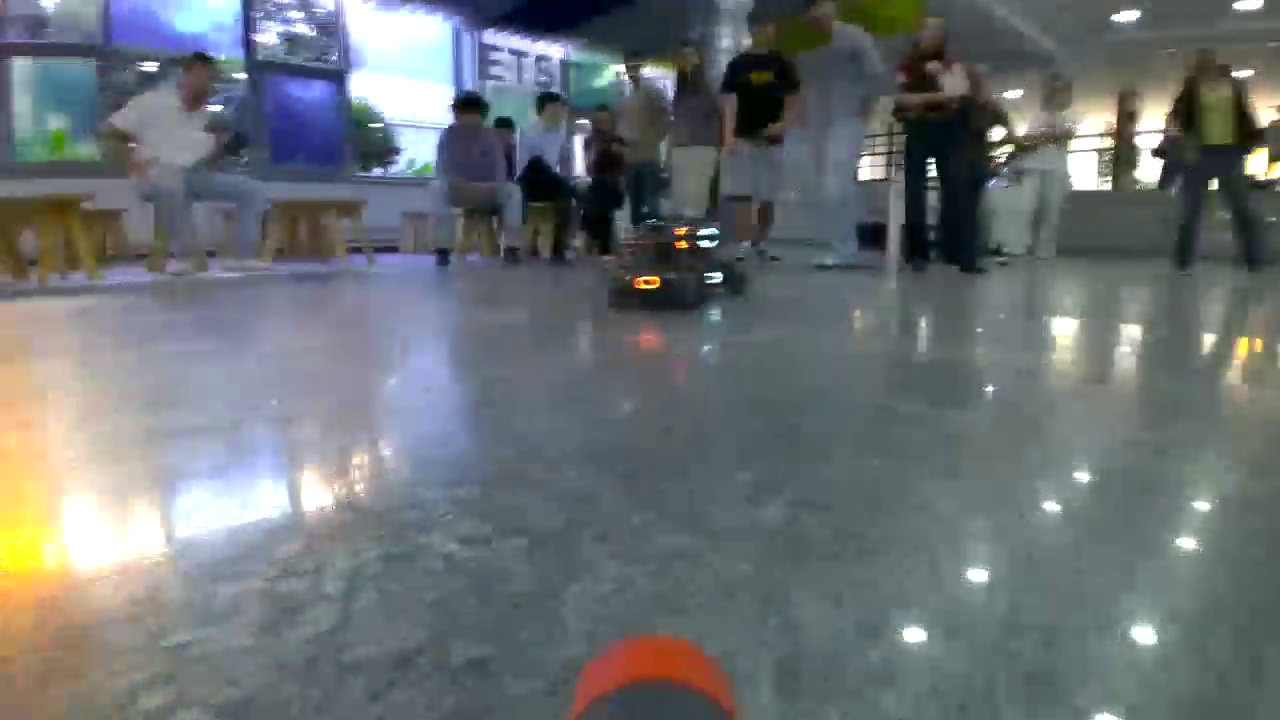robot: (607, 225, 698, 307), (698, 219, 738, 309)
